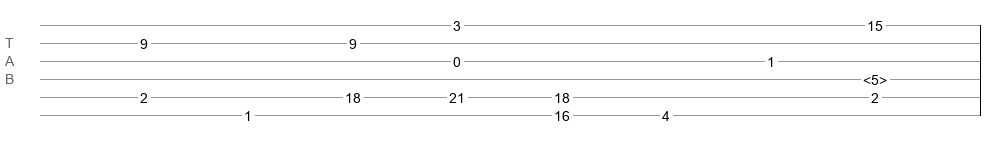0: (453, 54, 461, 64)
1: (244, 108, 252, 118), (767, 54, 775, 64)
15: (867, 18, 883, 28)
16: (554, 108, 570, 118)
18: (345, 90, 361, 100), (554, 90, 570, 100)
2: (140, 90, 148, 100), (871, 90, 879, 100)
21: (449, 90, 465, 100)
3: (453, 18, 461, 28)
4: (662, 108, 670, 118)
9: (140, 36, 148, 46), (349, 36, 357, 46)
harmonic: (863, 72, 887, 82)
